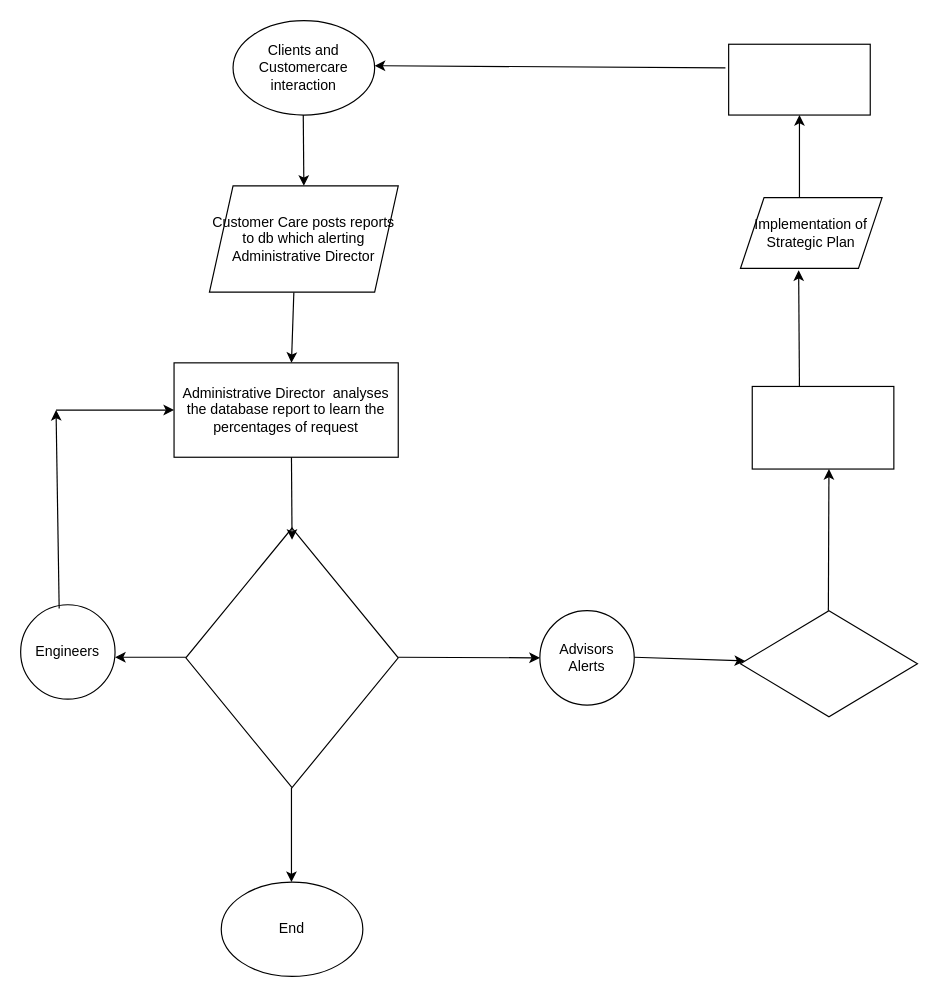
Image size: 938x997. Some labels were removed from this diagram. The centre of each missing label's shape, as x and y in pixels:
"Adm Director Rasises alert to Technical and Board for meeting of advice" belongs at (291,657).
"Board Advices" belongs at (828,663).
"Strategic Plan being developed" belongs at (822,427).
"System Admin Hires to Support Clients" belongs at (798,79).
